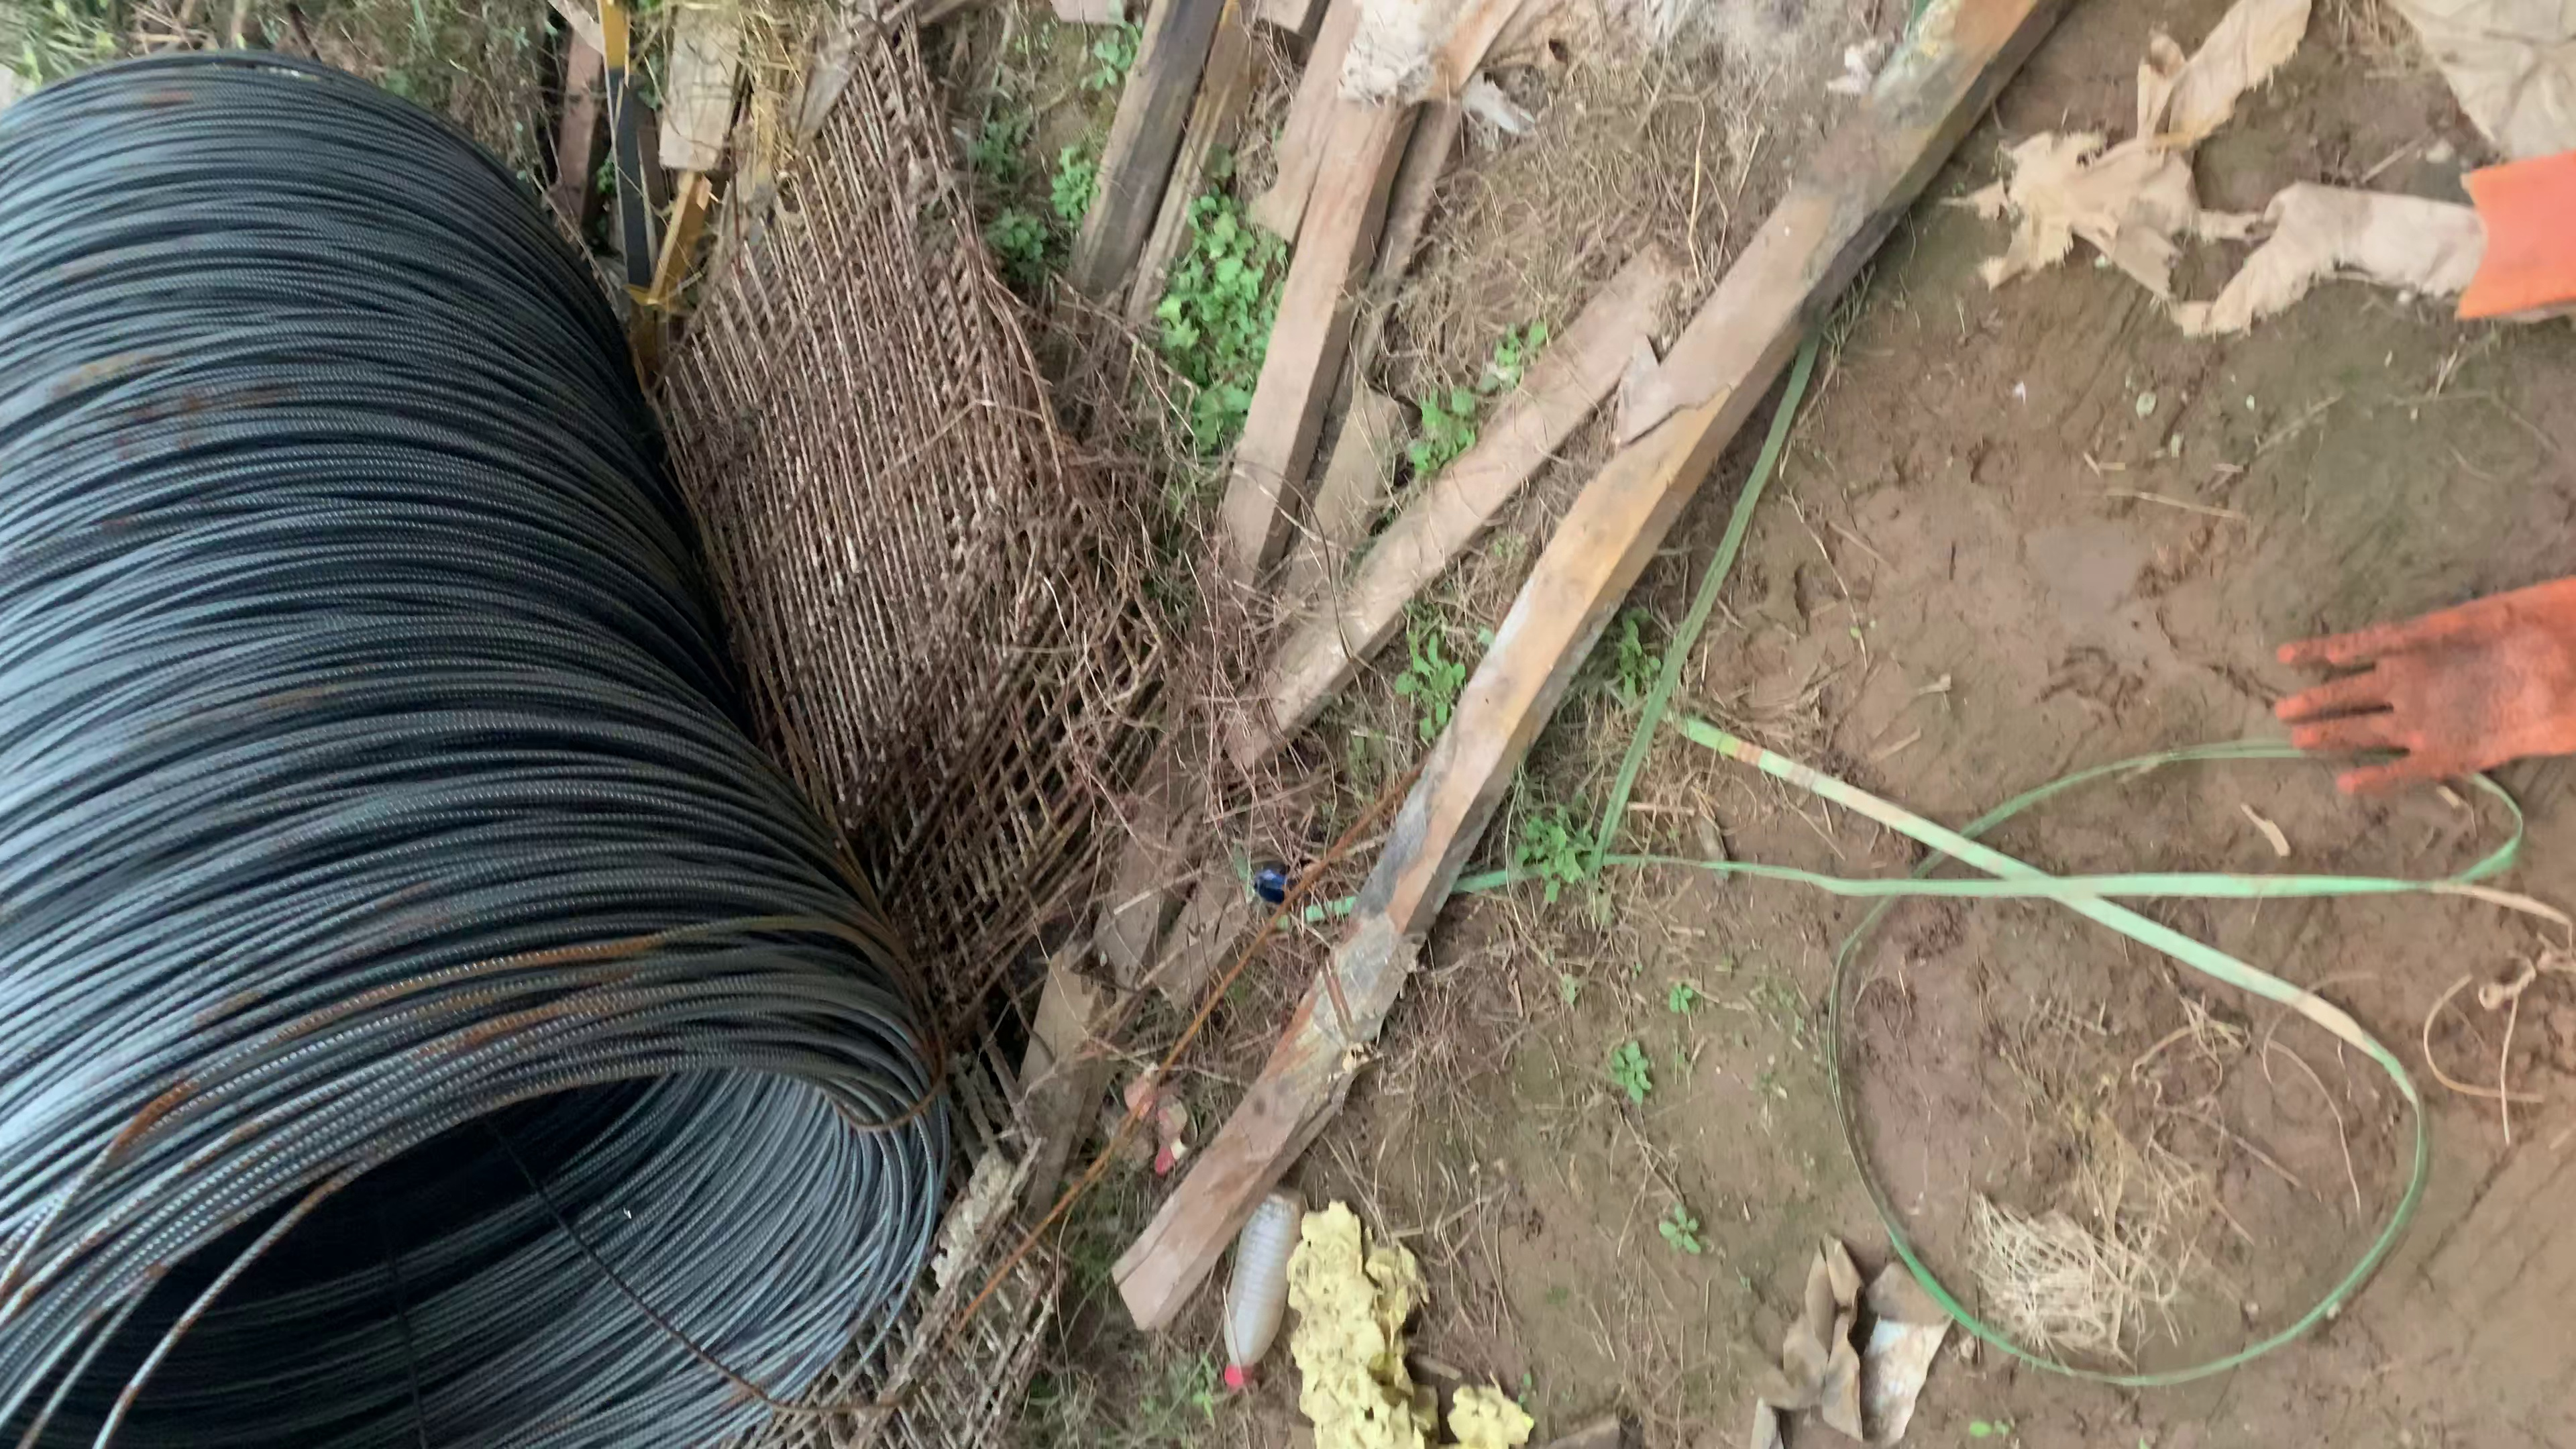coil: (0, 1028, 955, 1438)
